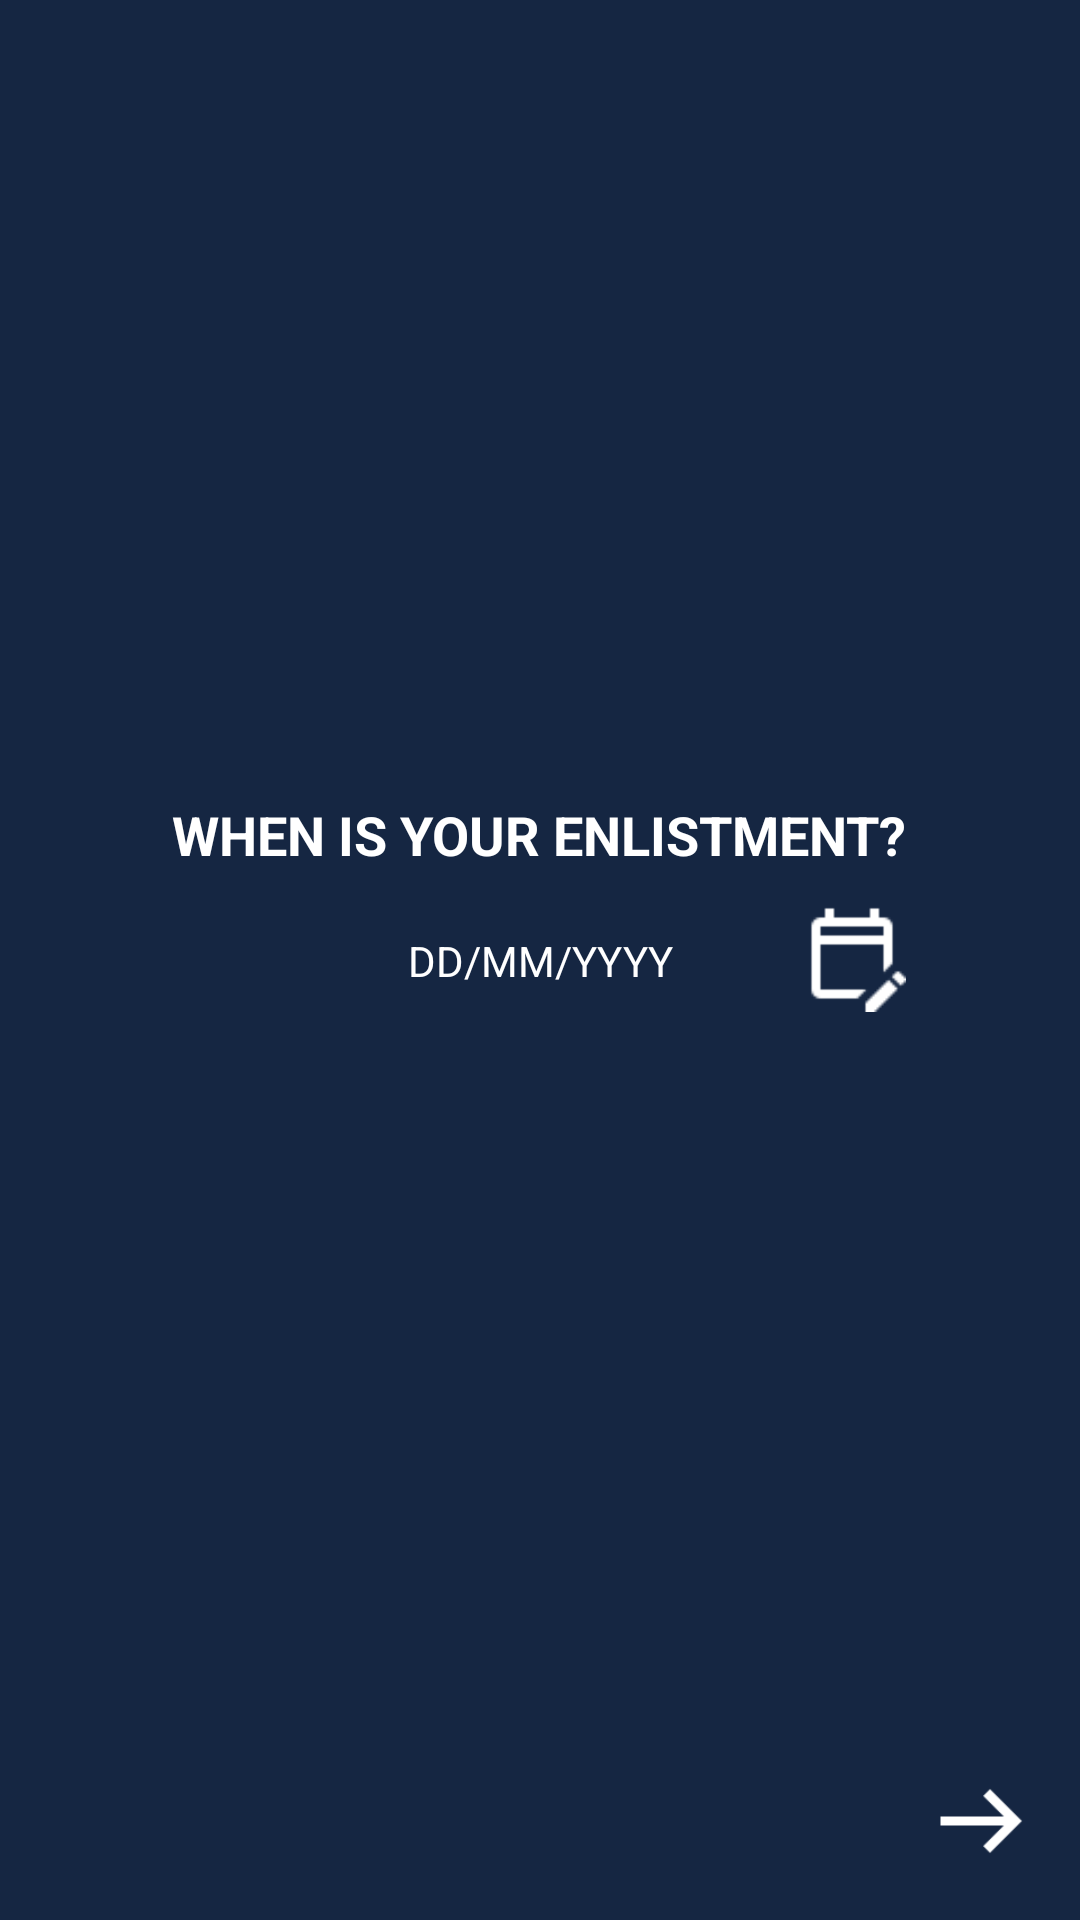

Icon click points for this 1080 x 1920 phone screenshot, format [x,y]:
arrowrightwhite: [981,1821]
calendarwhite: [858,960]
